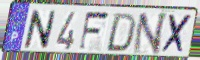4: (54, 10, 77, 51)
D: (104, 12, 138, 54)
F: (77, 11, 111, 53)
N: (130, 11, 169, 56), (22, 9, 58, 51)
X: (160, 13, 194, 56)
